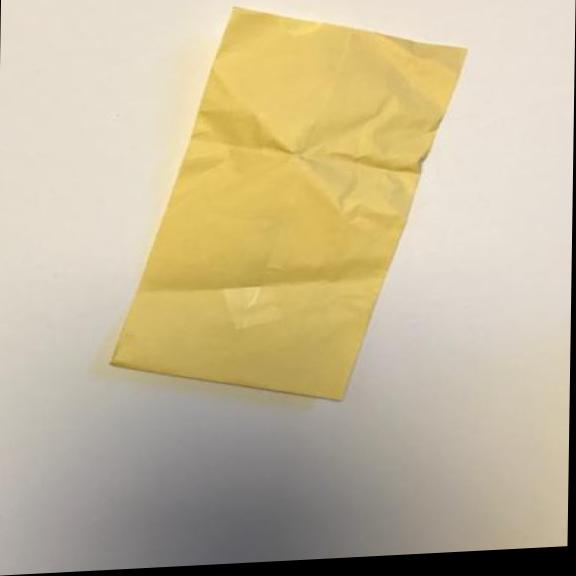Kertas: (92, 0, 474, 423)
